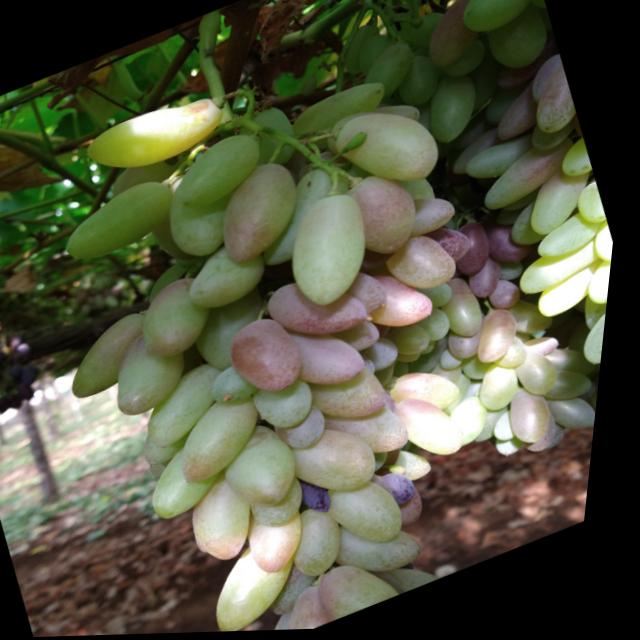grapes: (273, 186, 396, 319), (81, 87, 235, 189), (242, 155, 374, 273), (326, 94, 453, 212), (264, 253, 403, 360), (205, 154, 322, 272), (205, 526, 328, 634), (58, 174, 192, 270), (101, 317, 214, 424), (283, 410, 398, 515), (60, 307, 180, 404), (172, 389, 286, 489), (102, 320, 211, 424), (137, 359, 253, 456), (183, 463, 284, 573), (161, 126, 280, 218), (216, 417, 319, 521), (224, 308, 325, 410), (321, 383, 428, 478), (474, 133, 591, 218), (133, 271, 235, 368), (143, 435, 247, 527), (346, 165, 438, 267), (327, 466, 422, 563), (339, 502, 442, 591), (180, 233, 284, 319), (393, 379, 484, 475), (193, 294, 290, 380), (320, 546, 422, 627), (292, 312, 382, 401), (380, 226, 472, 308), (517, 164, 610, 244), (358, 259, 446, 343), (286, 499, 370, 587), (413, 0, 508, 77), (287, 77, 395, 144), (246, 500, 331, 583), (479, 1, 564, 82), (513, 239, 612, 304), (317, 362, 402, 435), (166, 193, 245, 271), (391, 360, 475, 433), (416, 74, 493, 151), (352, 38, 427, 107), (109, 147, 199, 204), (534, 208, 615, 270), (257, 376, 331, 441), (506, 382, 571, 454), (524, 67, 586, 141), (146, 251, 225, 308), (386, 549, 467, 604), (464, 135, 542, 191), (537, 266, 612, 324), (484, 85, 552, 148), (472, 306, 536, 370), (278, 580, 355, 632), (210, 358, 278, 414), (476, 359, 538, 420), (486, 214, 546, 276), (276, 403, 341, 460), (401, 187, 467, 243), (451, 0, 536, 43), (447, 219, 504, 283), (432, 33, 499, 87), (516, 345, 574, 407), (505, 200, 567, 257), (272, 558, 331, 617), (548, 340, 608, 393), (426, 220, 484, 274), (446, 287, 499, 346), (551, 389, 607, 442), (455, 396, 506, 450), (391, 443, 446, 493), (335, 314, 391, 363), (576, 305, 614, 374), (467, 256, 516, 307), (298, 474, 347, 524), (349, 268, 397, 319), (391, 318, 443, 365), (405, 10, 454, 59), (516, 296, 567, 343), (384, 469, 431, 515), (448, 325, 498, 368), (399, 171, 445, 217), (363, 336, 410, 378), (583, 258, 618, 313), (377, 96, 427, 134), (397, 487, 440, 531), (488, 277, 533, 319), (528, 424, 579, 461), (575, 185, 615, 232), (464, 349, 510, 388), (558, 141, 599, 184), (422, 306, 465, 347), (149, 434, 197, 470), (581, 287, 615, 336), (589, 221, 621, 273), (271, 604, 330, 632), (495, 409, 533, 450), (530, 333, 570, 366), (566, 112, 593, 154), (500, 431, 534, 464), (155, 454, 185, 482), (510, 0, 550, 20)
